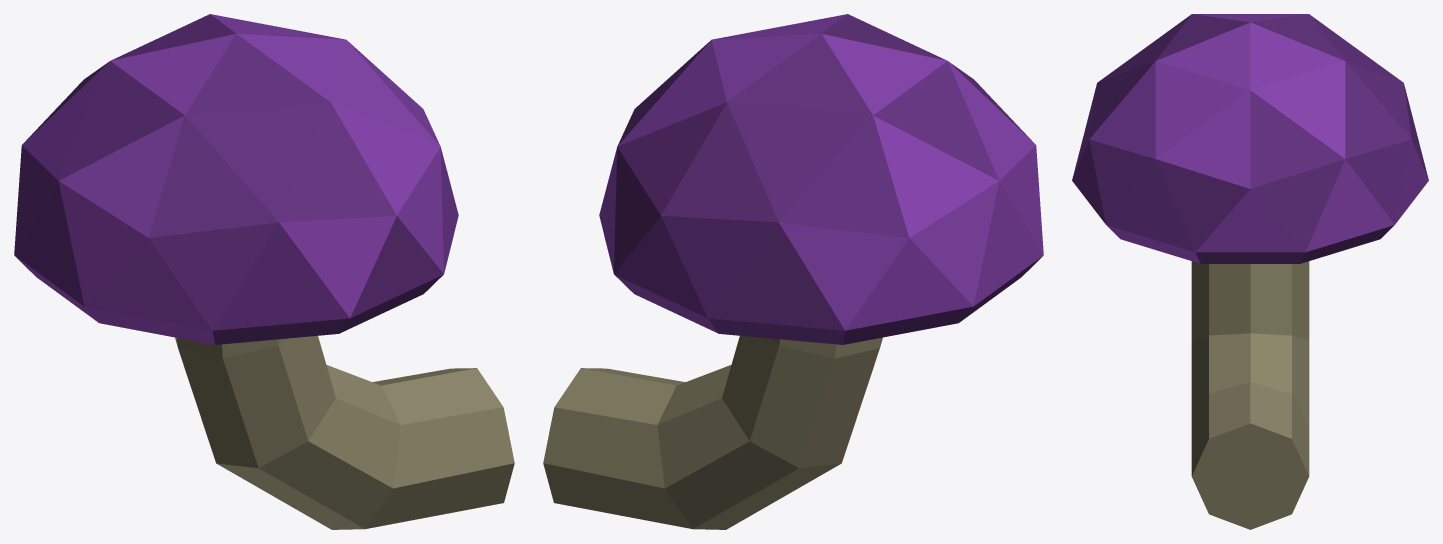
File: Mushroom_5_Purple.fbx
The picture shows the model from 3 angles, left to right: view 1: azimuth 30°, elevation 25°; view 2: azimuth 150°, elevation 25°; view 3: azimuth 270°, elevation 25°; orthographic projection. The views are drawn at different scales.
Visible parts, largest first — view 1: Mushroom_5_Purple; view 2: Mushroom_5_Purple; view 3: Mushroom_5_Purple.
Boxes of the visible parts, bbox=[...] form: Mushroom_5_Purple: bbox=[14, 14, 514, 529]; Mushroom_5_Purple: bbox=[543, 14, 1043, 529]; Mushroom_5_Purple: bbox=[1072, 14, 1428, 529].
Size of the model in its own units: 33.07 by 39 by 30.39.
